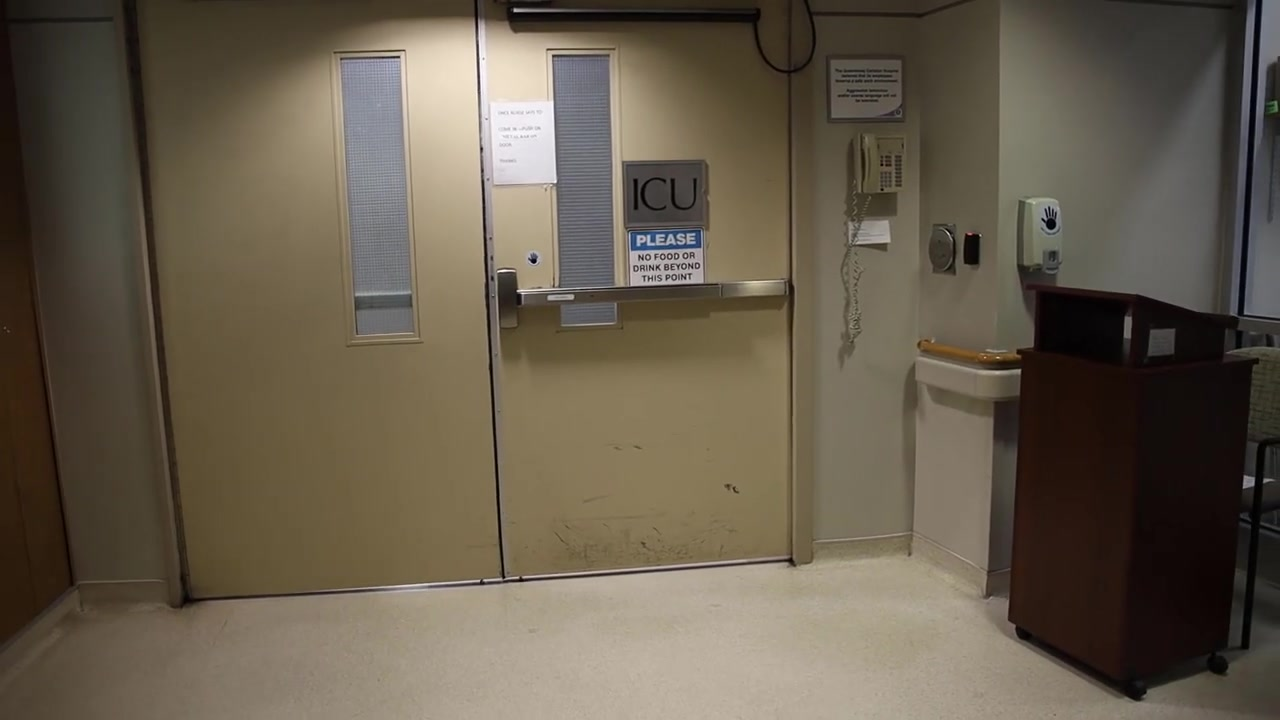chair: (1225, 345, 1280, 650)
counter: (1009, 279, 1262, 701)
dispenser: (1017, 197, 1065, 276)
hallway_assist_bar: (912, 335, 1025, 402)
press_to_open: (923, 227, 957, 272)
push_latch: (496, 269, 788, 332)
telephone: (839, 131, 908, 351)
